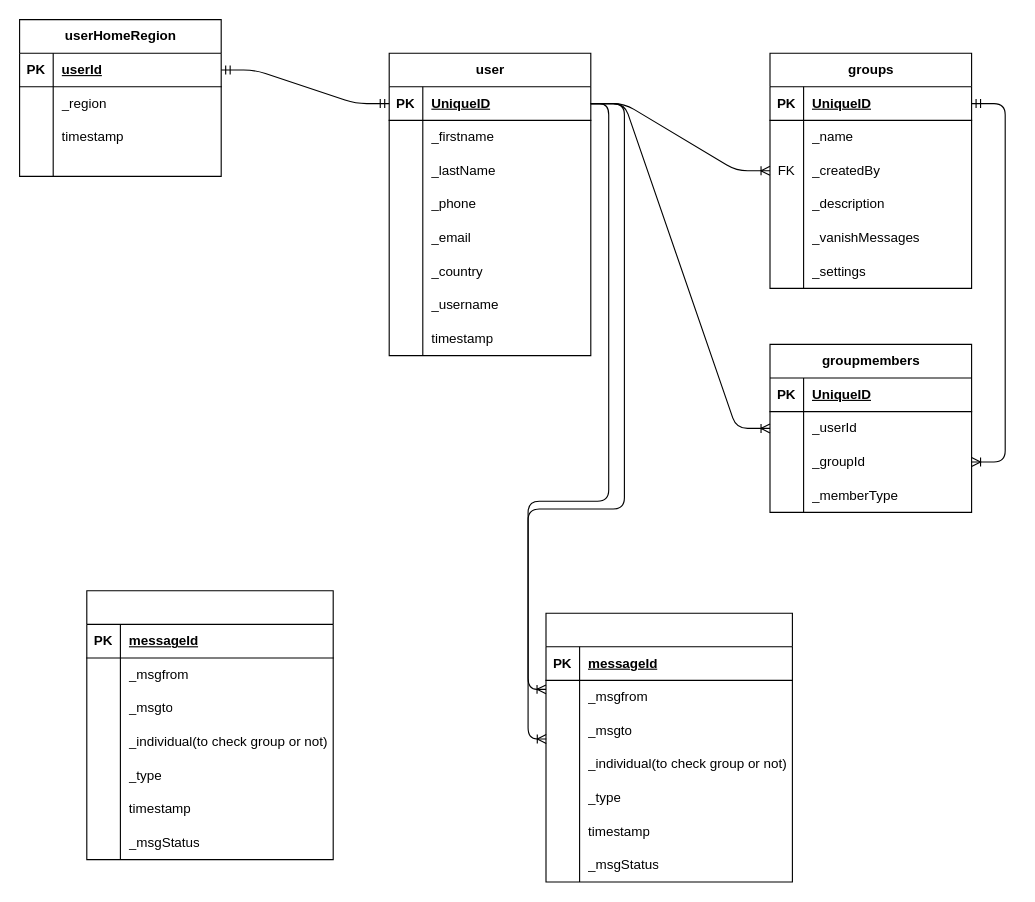
Some shapes in this 1035 by 902 pixel diagram are drawn without their labels. Here are the shapes that lost their labels. From the top down, the box of each, then its label:
(86, 590, 333, 860): pendingmessages
(545, 612, 792, 882): messages
